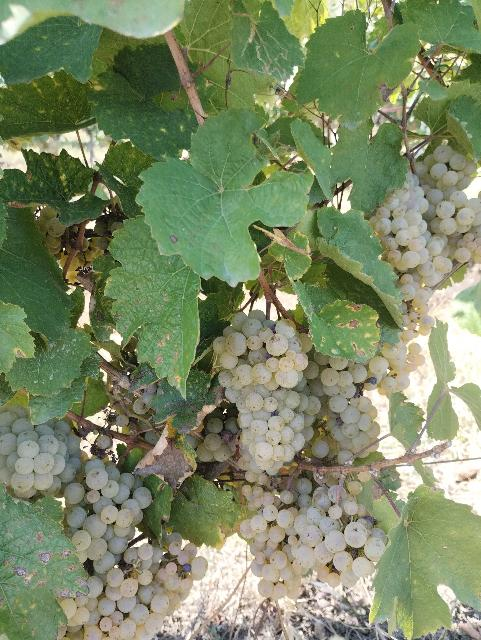grapes: (370, 164, 481, 340), (220, 310, 312, 484), (64, 459, 151, 640), (84, 542, 209, 640), (295, 485, 386, 588), (240, 485, 304, 600), (0, 406, 76, 499), (298, 478, 312, 494)
